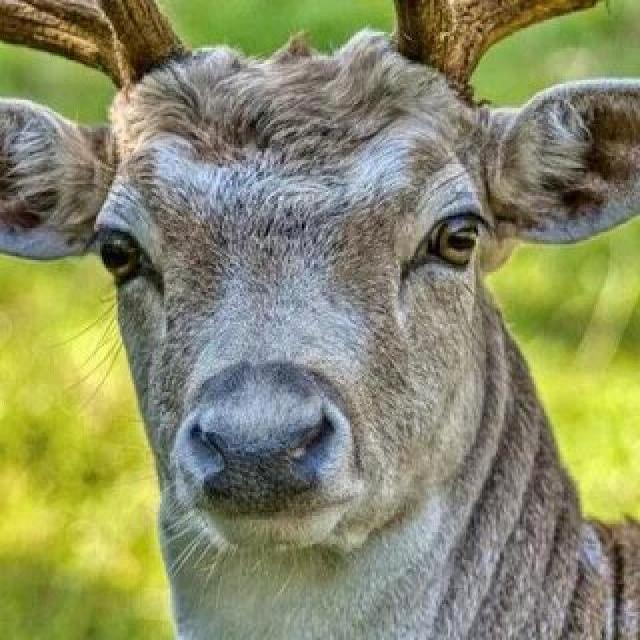deer: (6, 0, 640, 555)
